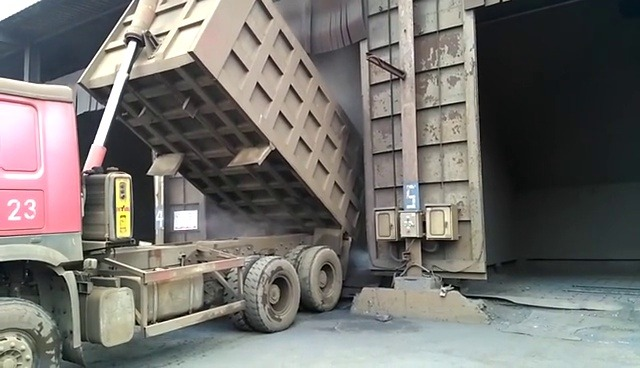dust: (276, 3, 371, 131), (204, 212, 249, 239)
truck: (0, 0, 364, 365)
